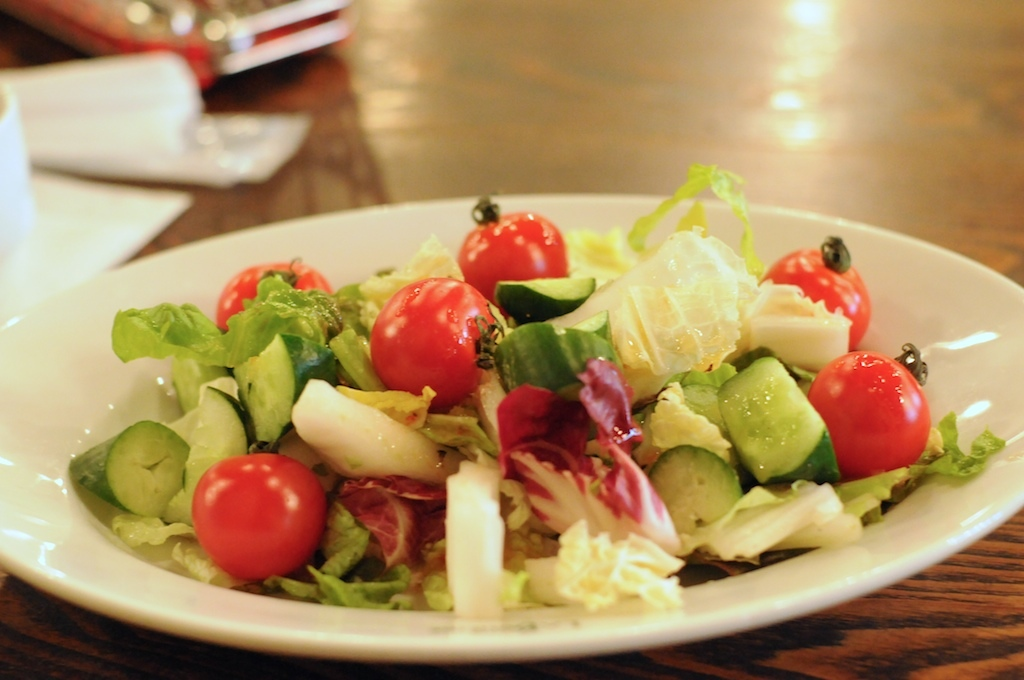Tomato: (191, 451, 325, 579), (368, 280, 497, 404), (807, 351, 925, 476), (762, 249, 872, 345), (462, 211, 562, 308), (216, 261, 330, 331)
